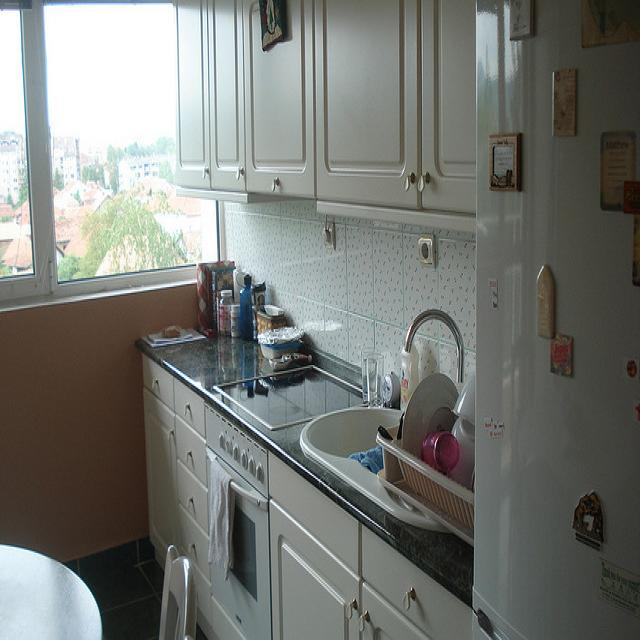chair: (159, 546, 197, 640)
dining table: (2, 539, 106, 632)
